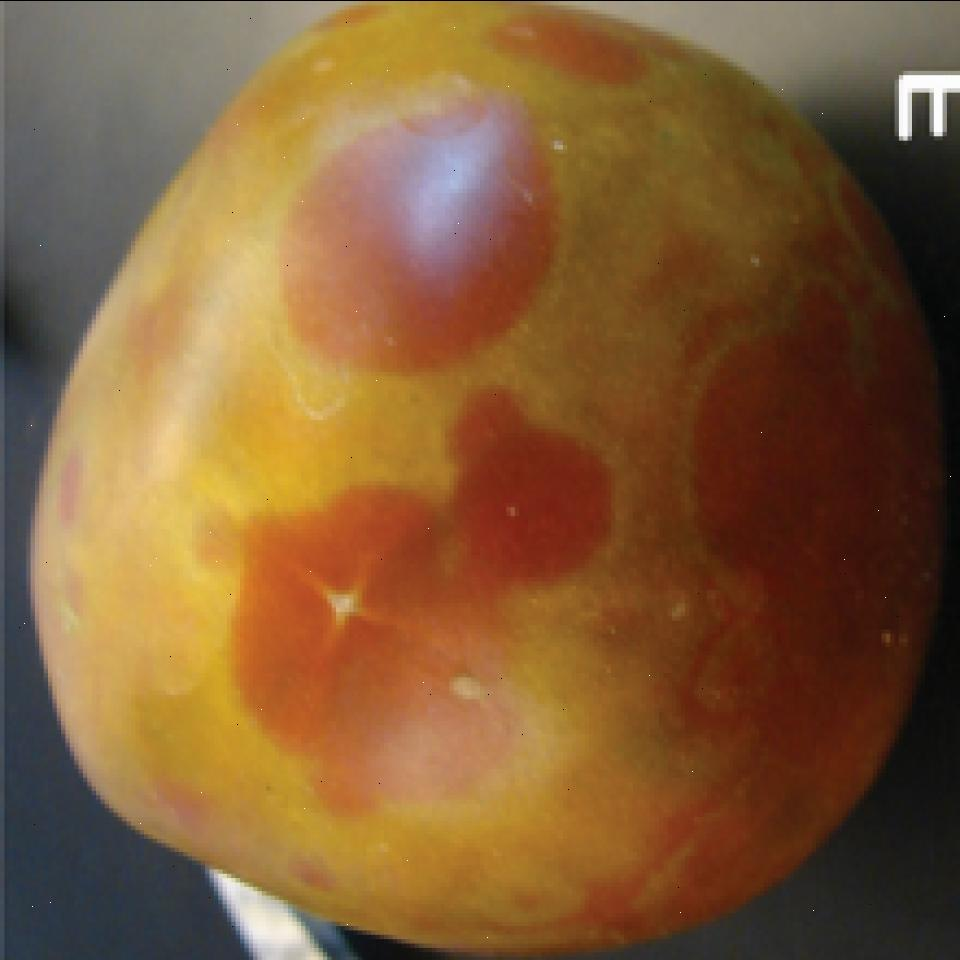Spotted wilt Virus: (21, 0, 952, 960)
